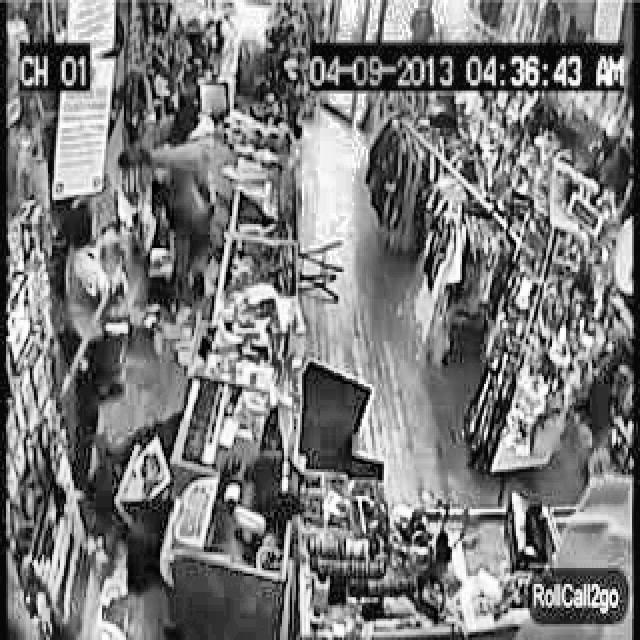robbery: (136, 84, 244, 315), (56, 200, 134, 405)
